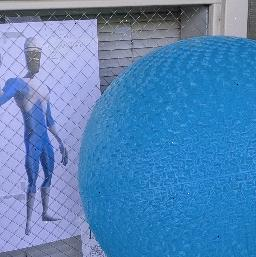algae: (76, 31, 256, 257)
